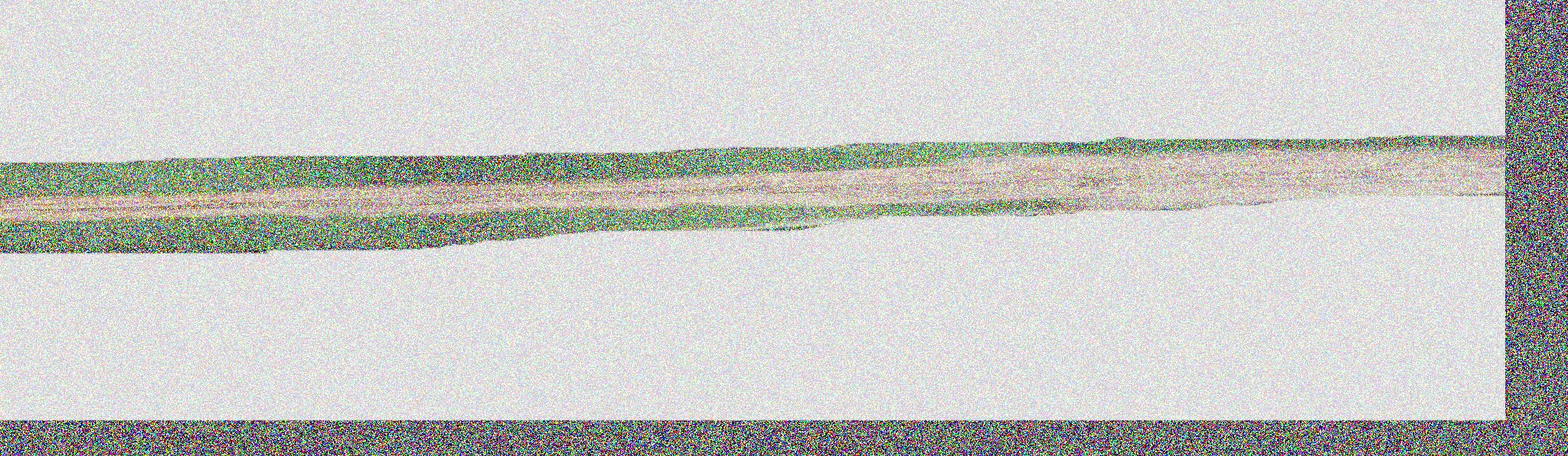Leaf_Blast: (0, 150, 1501, 232)
